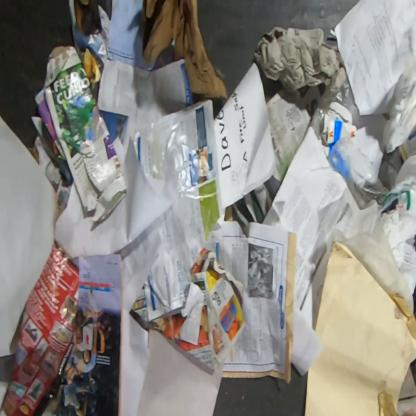cardboard: (42, 44, 128, 224), (143, 0, 229, 101), (252, 25, 348, 96)
soft_plastic: (327, 119, 415, 212), (310, 76, 386, 152), (339, 216, 408, 299)
